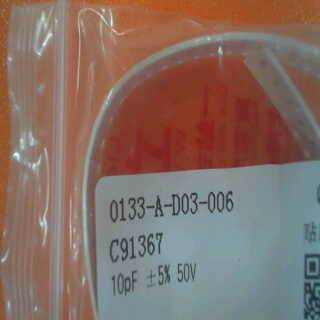10pF: (110, 264, 143, 300)
